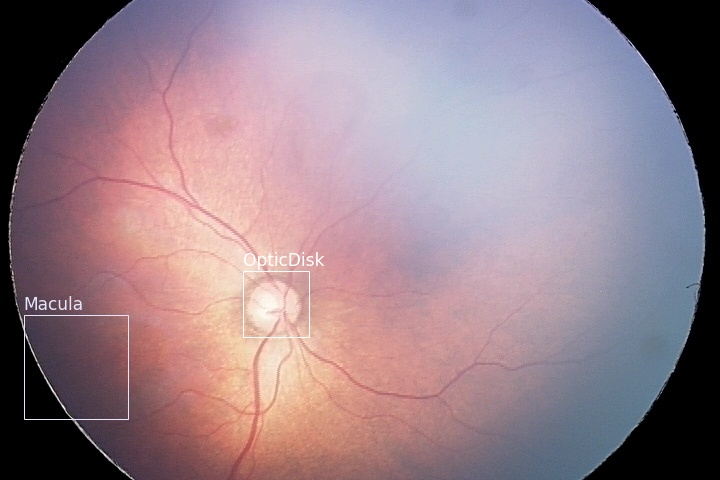Macula: (23, 314, 127, 418)
OpticDisk: (242, 270, 308, 336)
